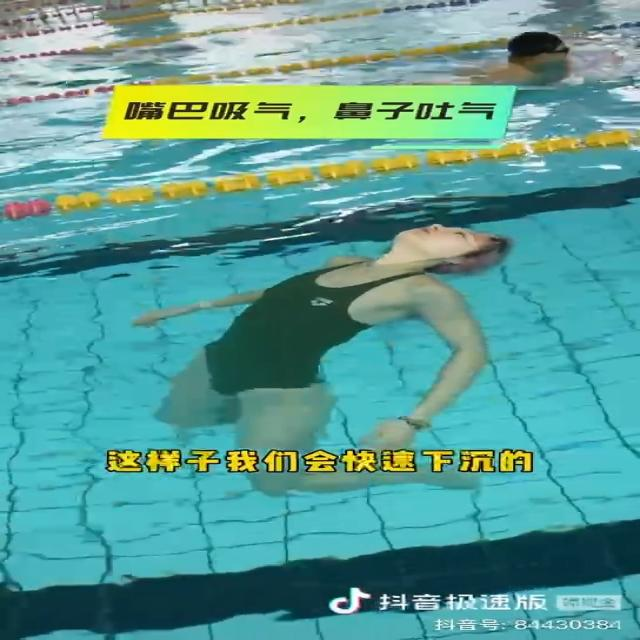Drowning: (133, 220, 511, 494)
